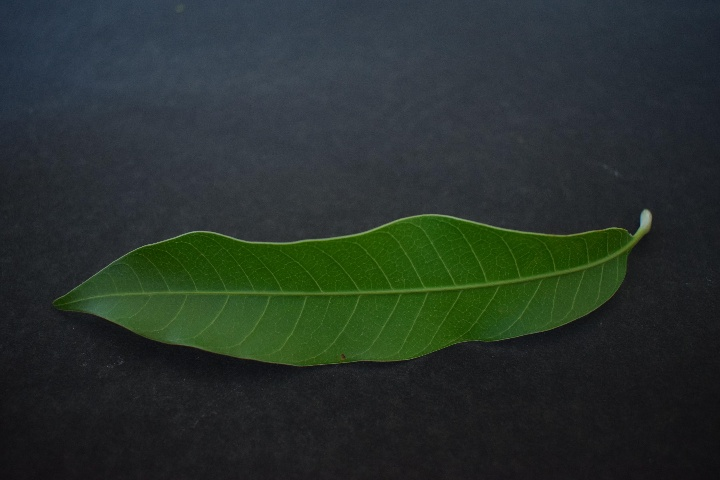healthy: (49, 215, 642, 374)
